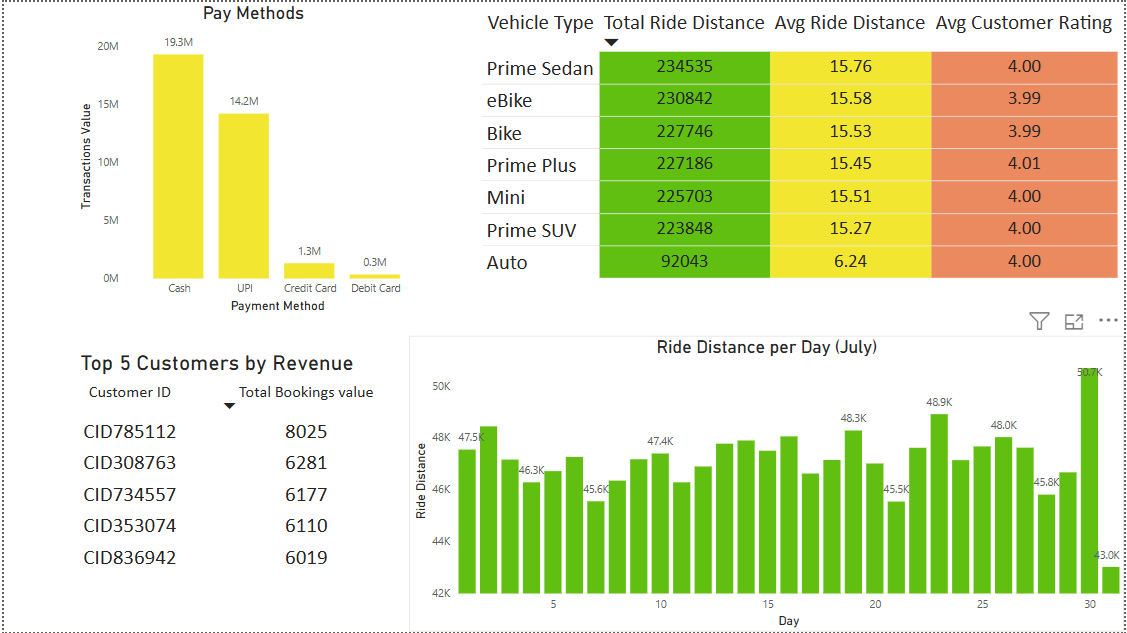

What the dashboard file says about the page in this screenshot:
{"tool":"powerbi","page":{"name":"Rides & Revenue","canvas":[1280,720],"ordinal":1},"visuals":[{"type":"pivotTable","fields":{"Rows":["July.Vehicle_Type"],"Values":["Sum(July.Ride_Distance)","July.Average Ride Distance","Avg(July.Customer_Rating)"]},"box":[541.4,0,738.6,328.6],"z":0},{"type":"columnChart","title":"Ride Distance per Day (July)","fields":{"Y":["Sum(July.Ride_Distance)"],"Category":["July.Date.Variation.Date Hierarchy.Day"]},"box":[462.9,381.4,817.1,338.6],"z":1},{"type":"columnChart","title":" Pay Methods","fields":{"Category":["July.Payment_Method"],"Y":["Sum(July.Booking_Value)"]},"box":[80,0,410,360],"z":2},{"type":"tableEx","title":"Top 5 Customers by Revenue","fields":{"Values":["July.Customer_ID","Sum(July.Booking_Value)"]},"box":[35.7,398.6,415.7,281.4],"z":3}]}

Visuals, with their boxes in screenshot pixels (x1, y1, x2, y2), scaled from the page's 1280x720 canvas onto the 1127x633 screenshot:
pivotTable - July.Vehicle_Type x Sum(July.Ride_Distance): <box>477,0,1126,289</box>
"Ride Distance per Day (July)" columnChart: <box>408,335,1126,632</box>
" Pay Methods" columnChart: <box>70,0,431,316</box>
"Top 5 Customers by Revenue" tableEx: <box>31,350,397,598</box>
